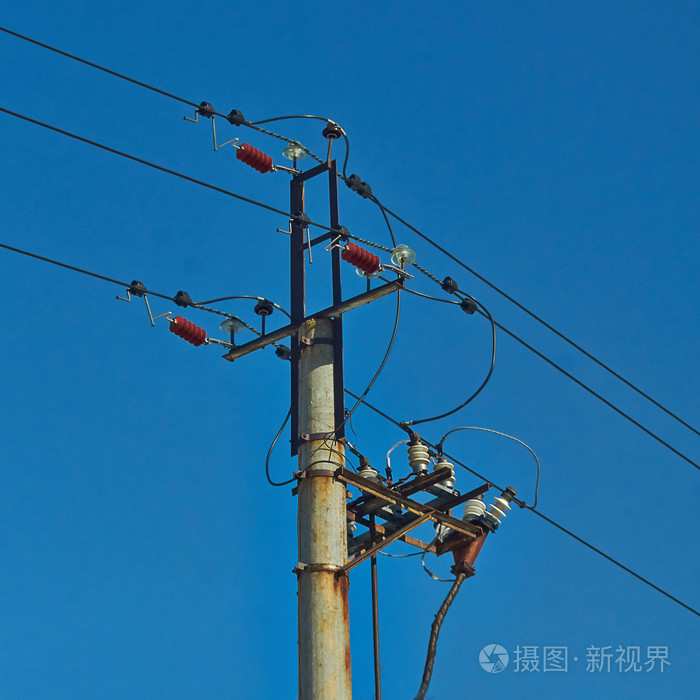insulator: (234, 137, 275, 174), (337, 241, 382, 274), (167, 314, 207, 349), (392, 245, 417, 270), (216, 319, 245, 337), (284, 143, 307, 163)
